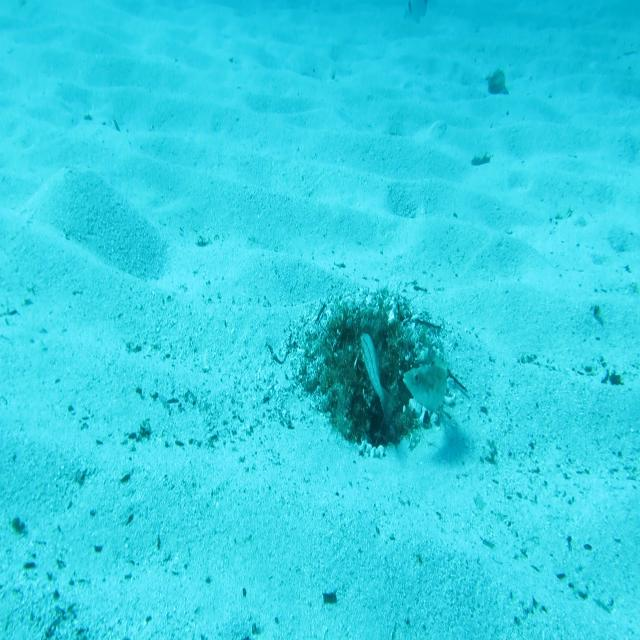BEND: (402, 356, 450, 417)
core_nest: (349, 320, 397, 354)
female: (360, 332, 396, 425)
nest: (288, 276, 458, 462)
other_fish: (402, 0, 436, 26)
vegetation: (484, 66, 510, 98), (471, 151, 491, 166), (322, 590, 338, 606)
